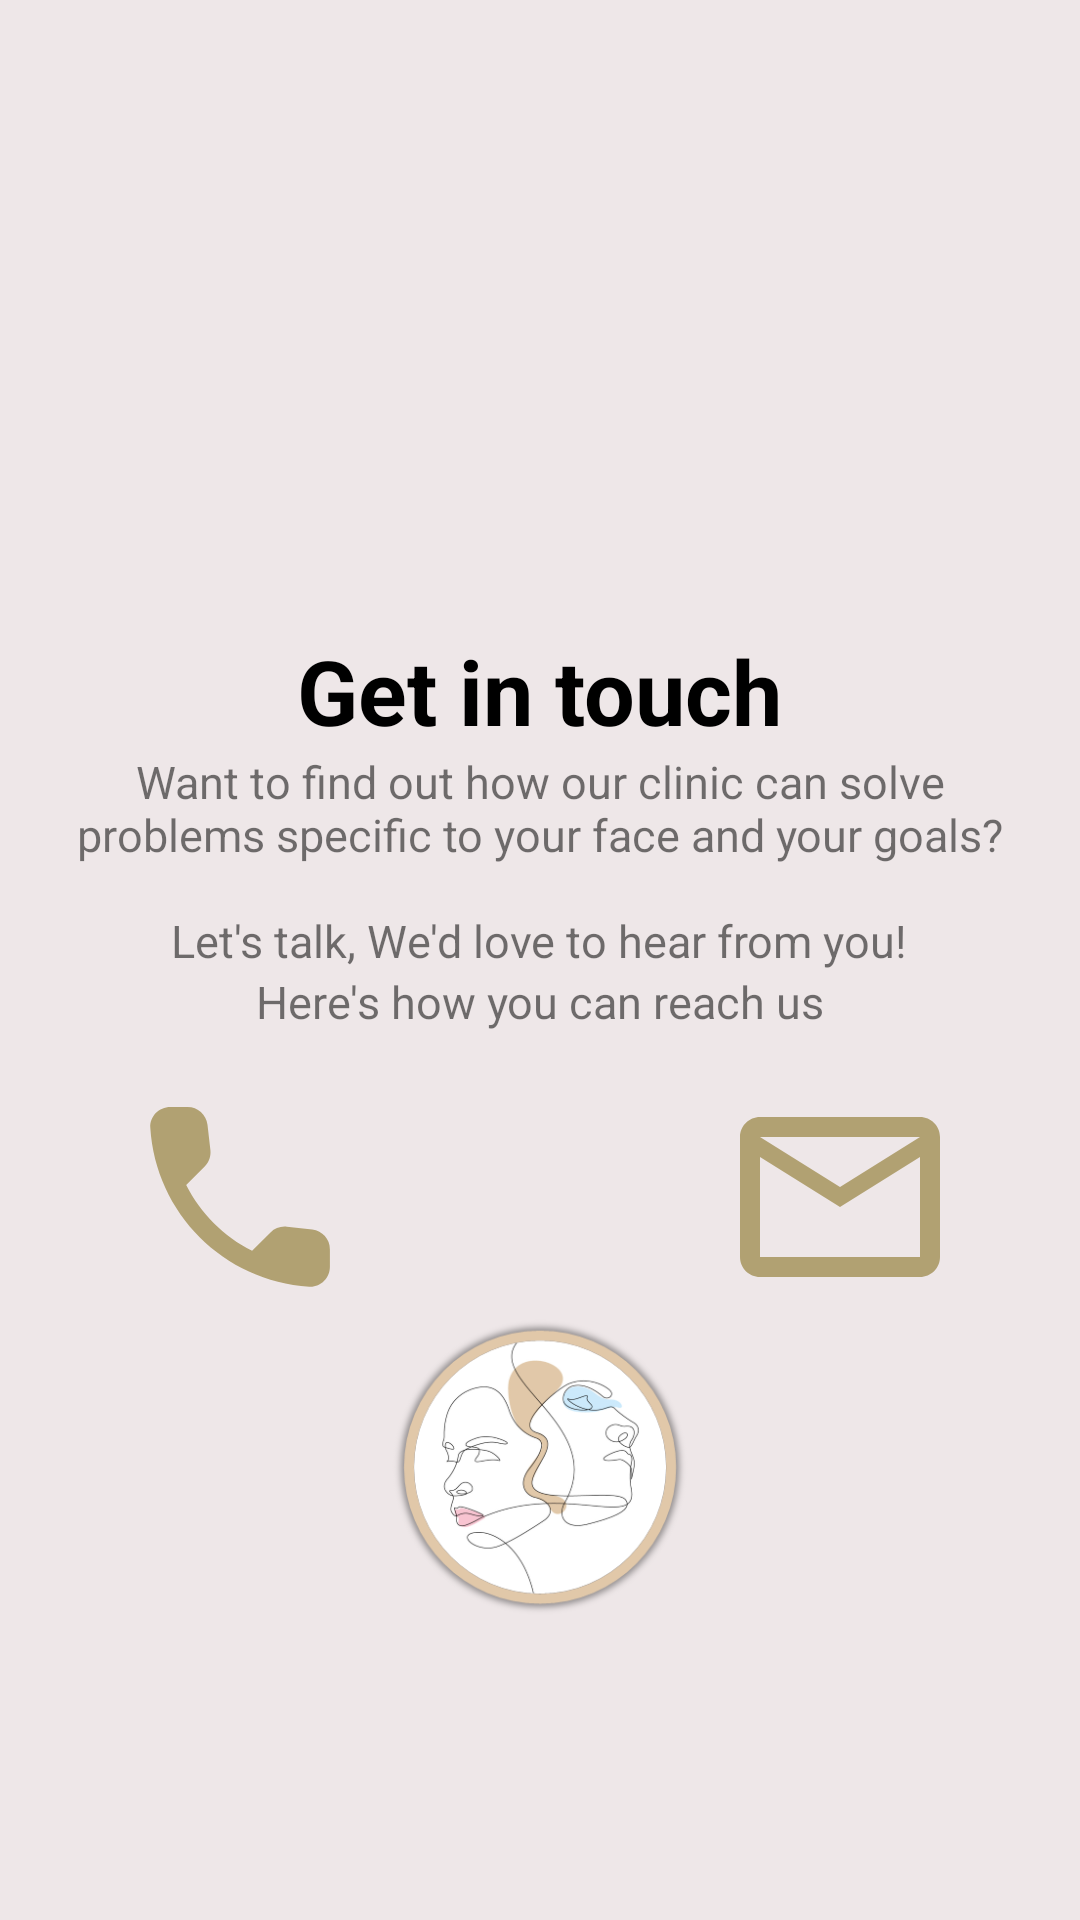

Point at icon controls on the screen. Image size 1080 x 1920, points as (x,y).
email: (840,1197)
local phone: (240,1197)
